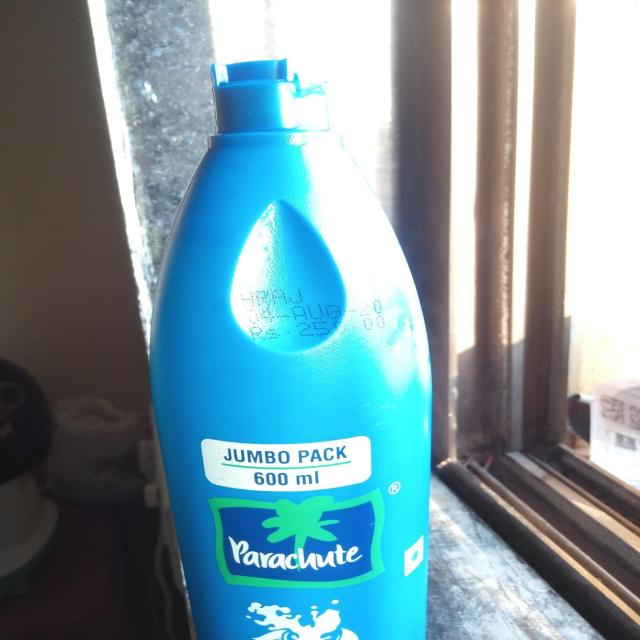parachute_oil: (136, 57, 455, 640)
